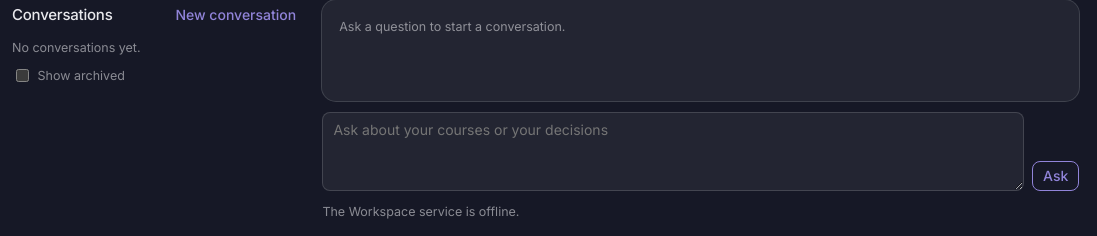
Test case: a read that fails is said › says an empty list is empty only once the list has answered
Expected: the text "No conversations yet." is shown, [12,40,140,55]
Step 1. Click the checkbox labelled "Show archived" → point(22, 76), box [16,69,29,82]
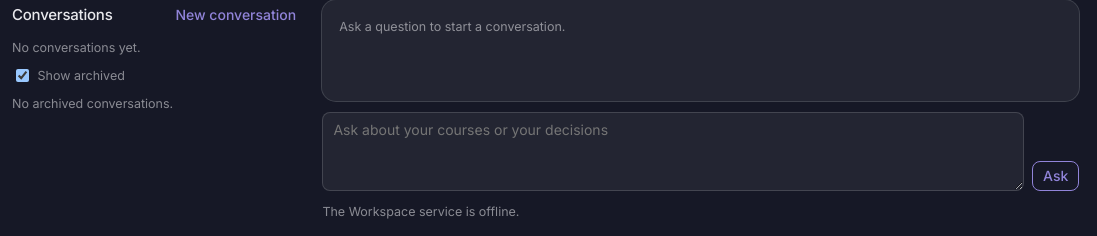
Expected: the text "No archived conversations." is shown, [12,96,173,111]
